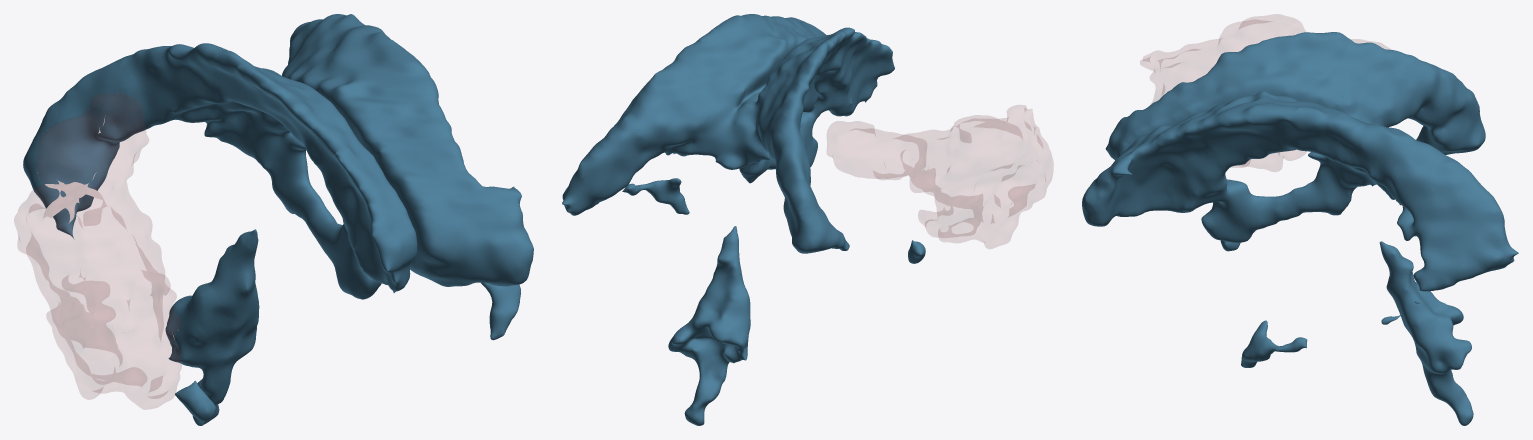
Rendered from figure_1_2.glb.
3 views of the same model, side by side, from view 1: azimuth 30°, elevation 25°; view 2: azimuth 150°, elevation 25°; view 3: azimuth 270°, elevation 25° (orthographic). The views are drawn at different scales.
Visible parts, largest first — view 1: ventricles, hard_bleed; view 2: ventricles, hard_bleed; view 3: ventricles, hard_bleed.
Boxes of the visible parts, x1=… form: ventricles: x1=23, y1=14, x2=533, y2=425; hard_bleed: x1=14, y1=93, x2=181, y2=409; ventricles: x1=562, y1=14, x2=925, y2=425; hard_bleed: x1=827, y1=105, x2=1053, y2=248; ventricles: x1=1082, y1=32, x2=1518, y2=425; hard_bleed: x1=1140, y1=14, x2=1391, y2=171.
Size of the model in its own units: 90.54 by 78.69 by 85.46.
